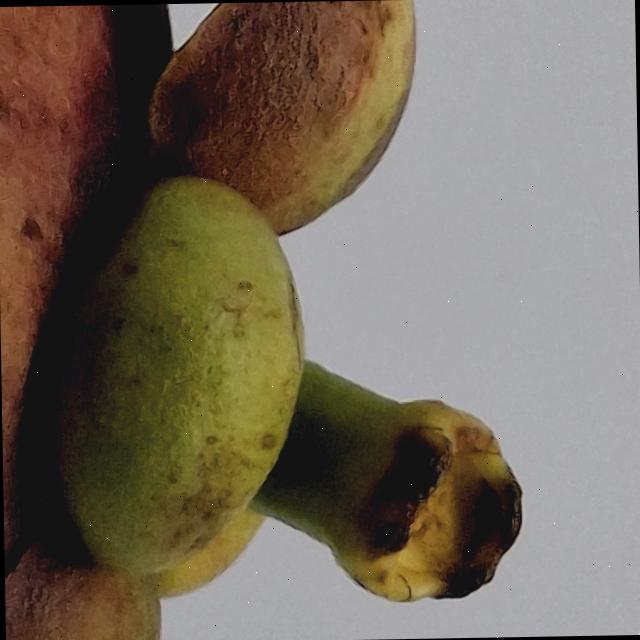mangosteen: (0, 0, 585, 640)
